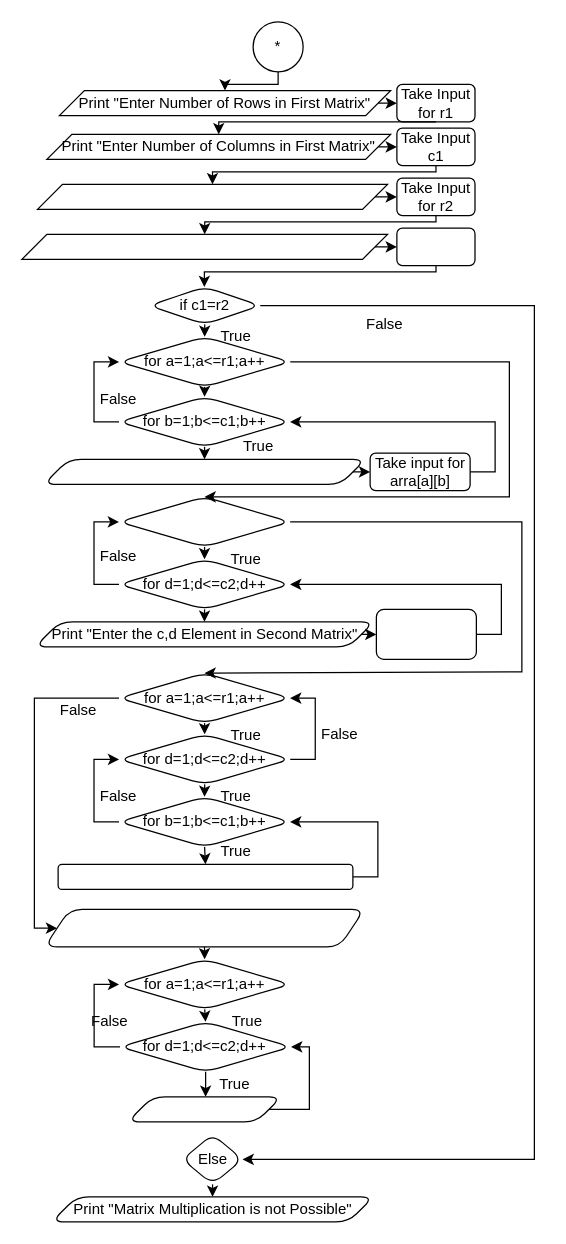
This 566x1244 diagram has some shape labels left out. Each missing label, with the box of its shape:
for c=1;c<=r2;c++: (118, 496, 290, 547)
mat[a][d] = (mat[a][d]+(arra[a][b]*arrb[b][d])): (57, 863, 353, 889)
Print "Enter Number of Columns in Second Matrix": (21, 233, 388, 259)
Print "Enter Number of Rows in Second Matrix": (36, 183, 388, 209)
Print "Enter the a,b Element in First Matrix": (42, 458, 366, 484)
Print "Multiplication of given Matrices is: ": (43, 908, 364, 947)
Print mat[a][d]: (126, 1096, 282, 1122)
Take Input c2: (396, 227, 475, 266)
Take input for arrb[c][d]: (375, 608, 476, 659)
